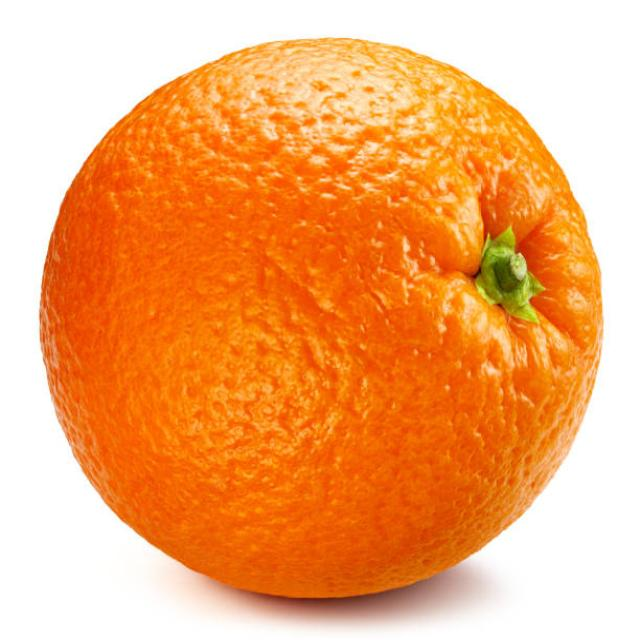Ripe: (36, 33, 604, 604)
